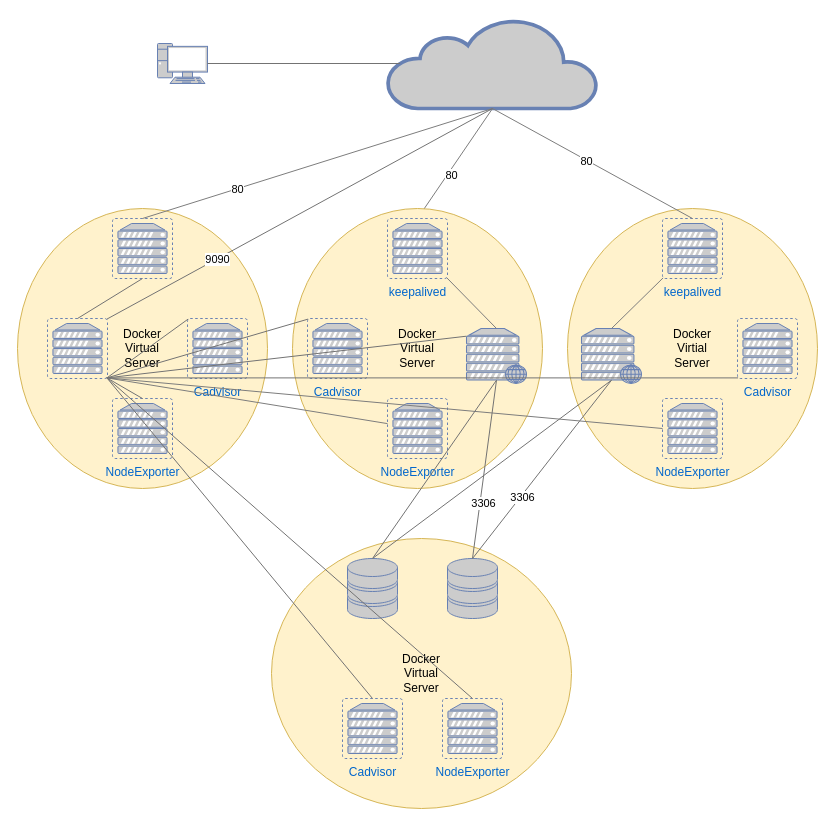
Image size: 835x826. Some labels were removed from this diagram. The shapes that lost their labels are listed below. From the top down, each one's centre as x and y in pixels, then its label:
At (x=182, y=63): "User".
At (x=142, y=248): "Grafana".
At (x=77, y=348): "Prometheus".
At (x=496, y=355): "WP1".
At (x=611, y=355): "WP0".
At (x=372, y=588): "NFS Server".
At (x=472, y=588): "MySQL Server".
